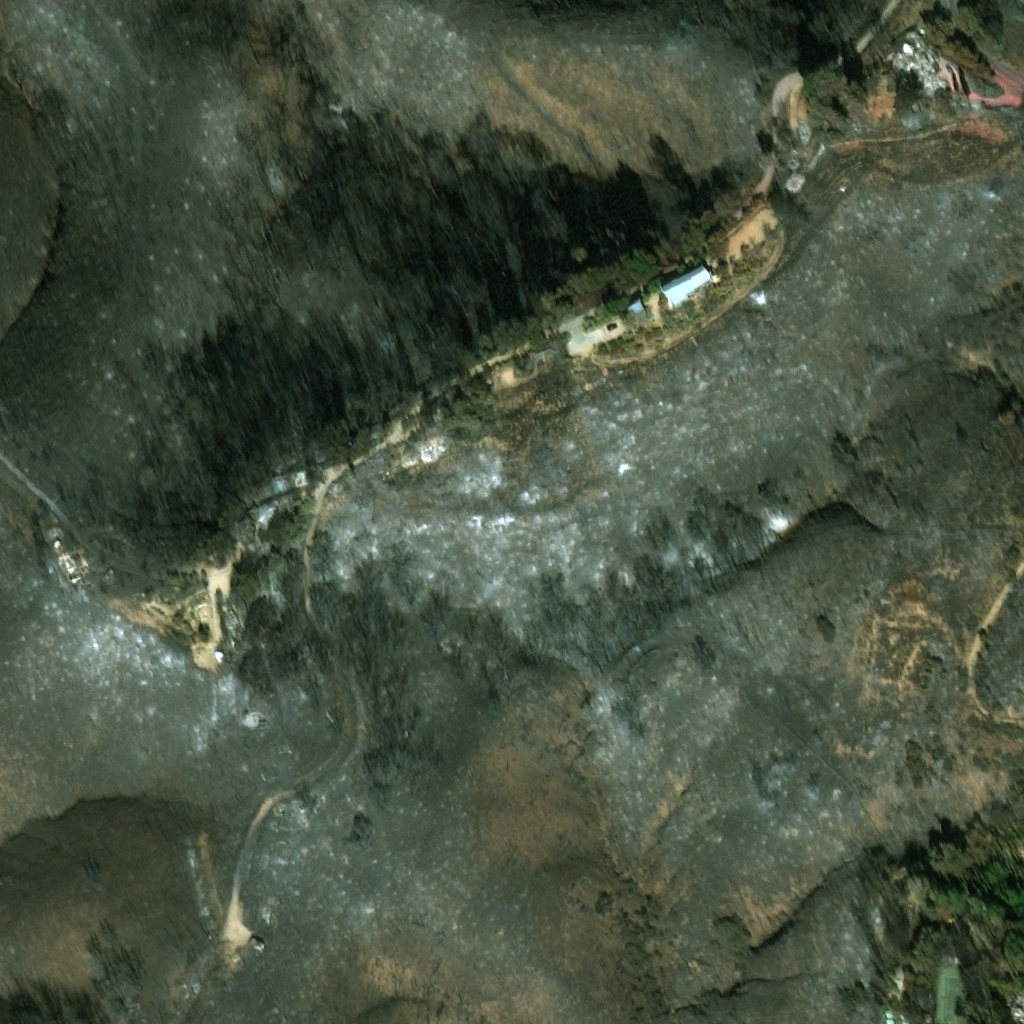0 no-damage: (661, 267, 717, 317), (628, 305, 648, 324)
2 major-damage: (248, 937, 265, 950)
3 destroyed: (890, 35, 953, 94), (55, 547, 87, 585), (419, 437, 446, 459), (232, 522, 255, 544), (1008, 993, 1023, 1023), (399, 451, 417, 470), (832, 92, 851, 110), (534, 349, 554, 362), (342, 433, 359, 448), (273, 799, 286, 816), (885, 1009, 895, 1018)
